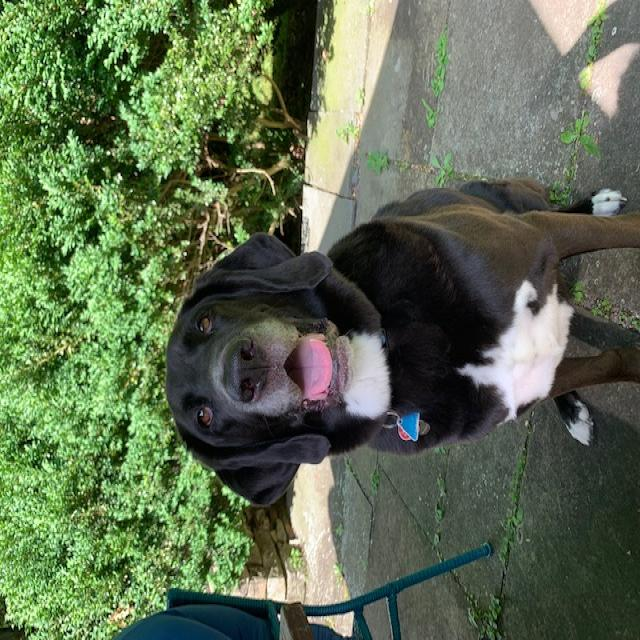dog: (134, 197, 640, 514)
